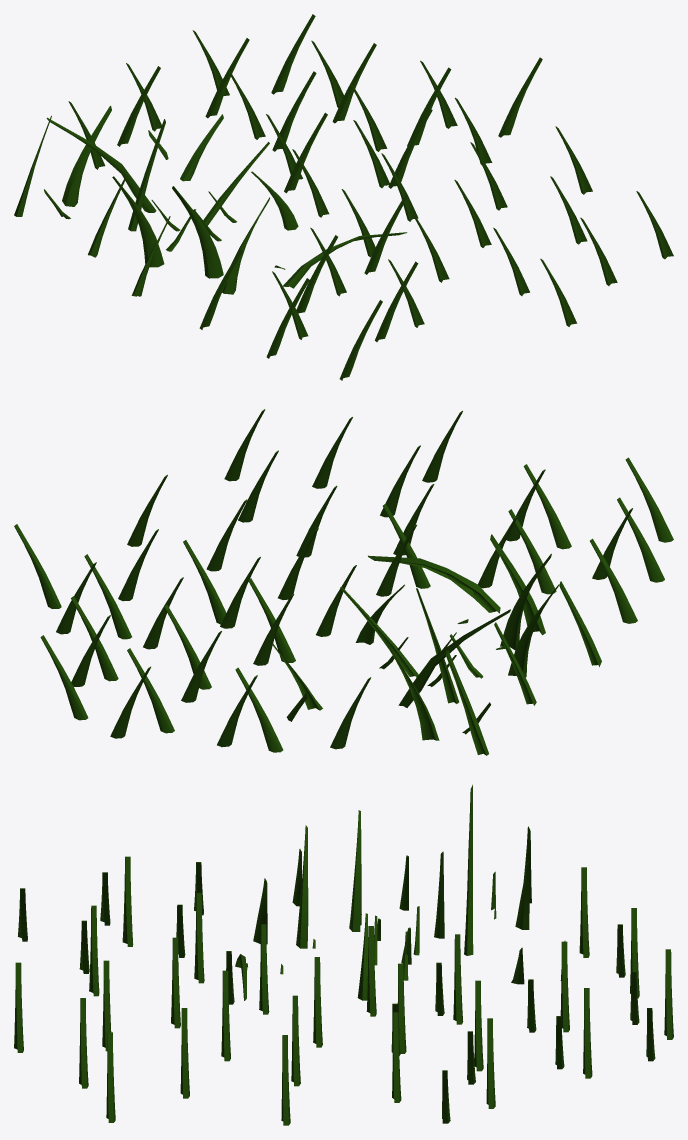
The model's file is short_grass_patch.fbx.
The picture shows the model from 3 angles, top to bottom: view 1: azimuth 30°, elevation 25°; view 2: azimuth 150°, elevation 25°; view 3: azimuth 270°, elevation 25°; orthographic projection. The views are drawn at different scales.
Parts seen in each view (by area): view 1: short_grass_wild; view 2: short_grass_wild; view 3: short_grass_wild.
Boxes of the visible parts, x1,y1,x2,y2 form: short_grass_wild: (14, 14, 673, 380); short_grass_wild: (14, 409, 673, 755); short_grass_wild: (14, 784, 673, 1125).
Bounding box in the file's own units: 5418 × 1251 × 6291.
